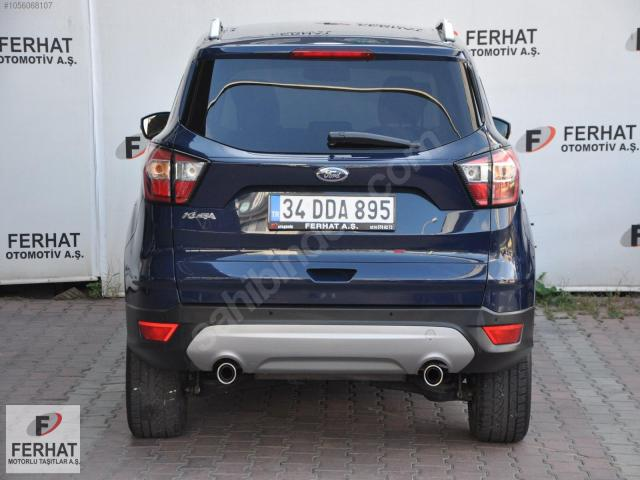plaka: (268, 194, 395, 231)
